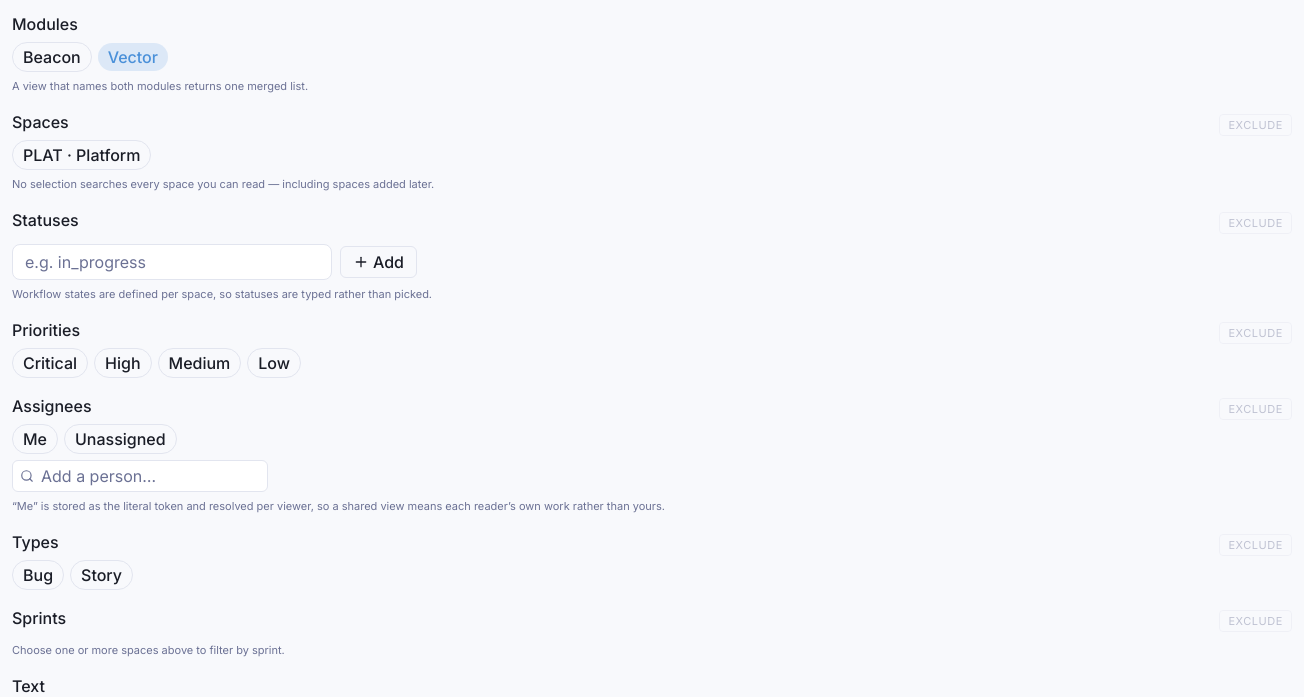
it: QueryFilterBuilder — the vector-only fields › disables both controls and explains why the moment Beacon joins
Click the button "Bug" at [38, 575], box [12, 560, 64, 590]
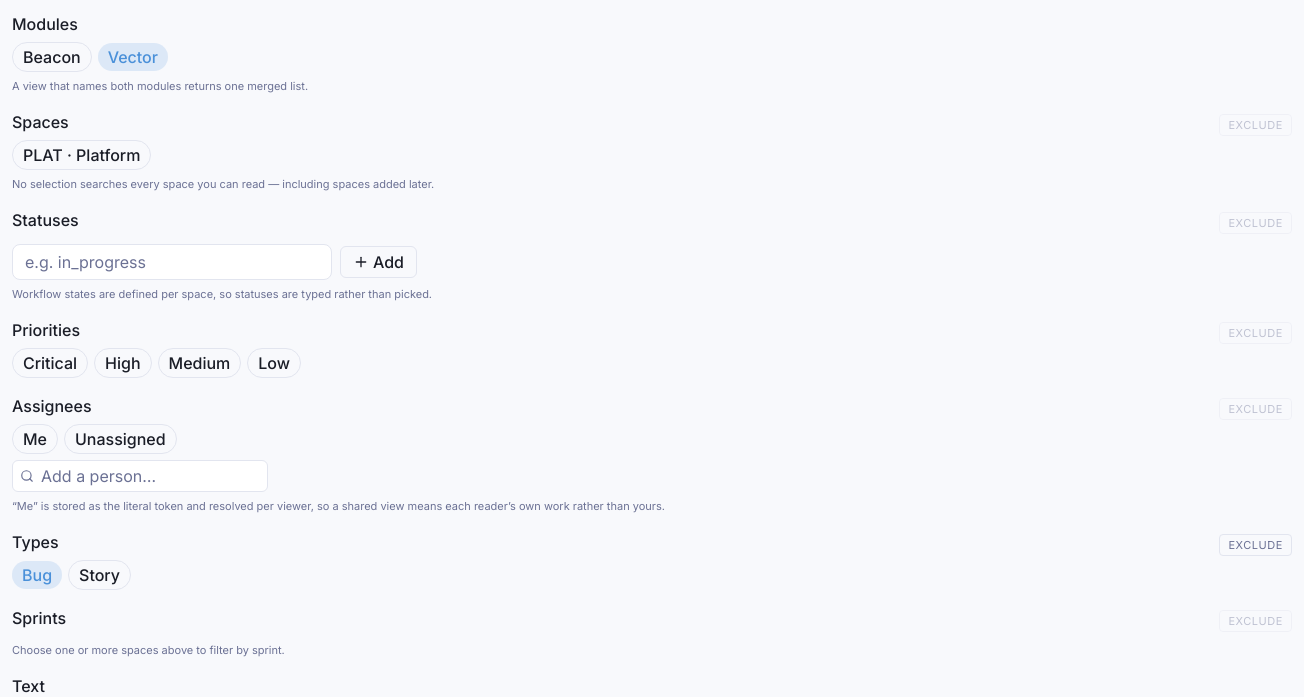
Click the button "Beacon" at [52, 57], box [12, 42, 92, 72]
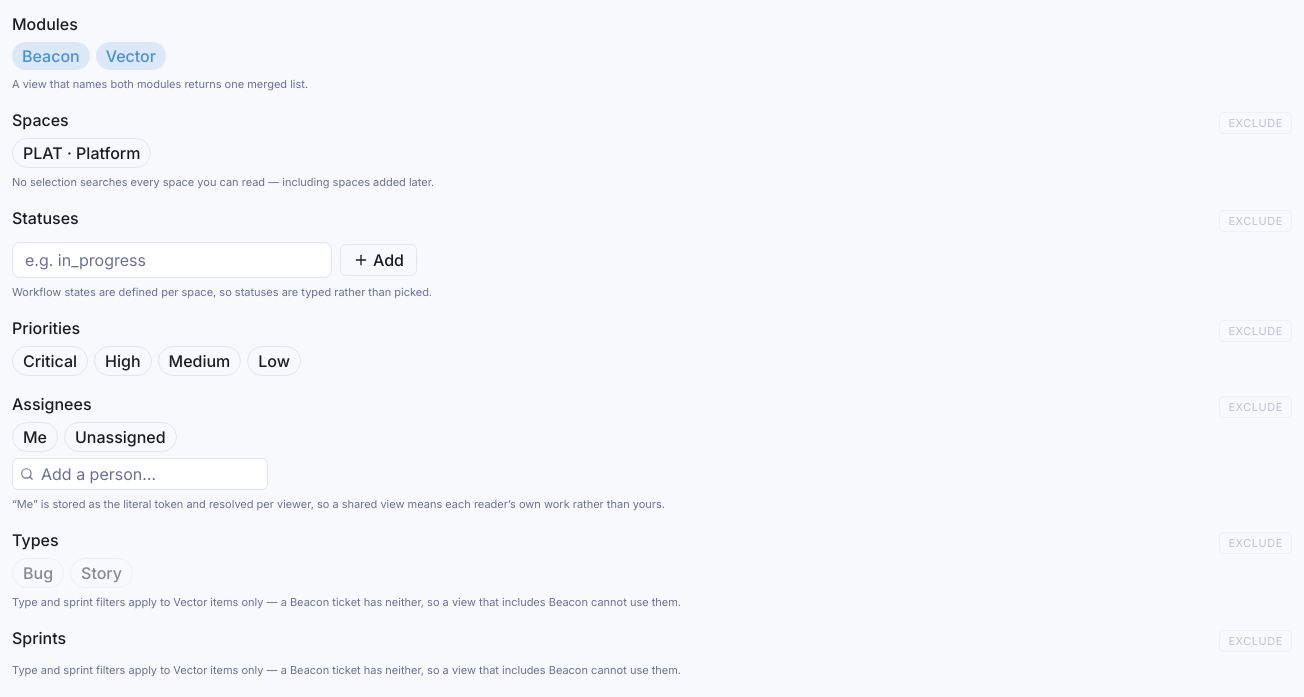
Check: the text with test id "view-kinds-reason" shows "Type and sprint filters apply to Vector items only — a Beacon ticket has neither, so a view that includes Beacon cannot use them.", box [12, 595, 681, 609]
Check: the text with test id "view-sprints-reason" shows "Type and sprint filters apply to Vector items only — a Beacon ticket has neither, so a view that includes Beacon cannot use them.", box [12, 663, 681, 677]
Check: the button "Bug" is disabled, box [12, 558, 64, 588]
